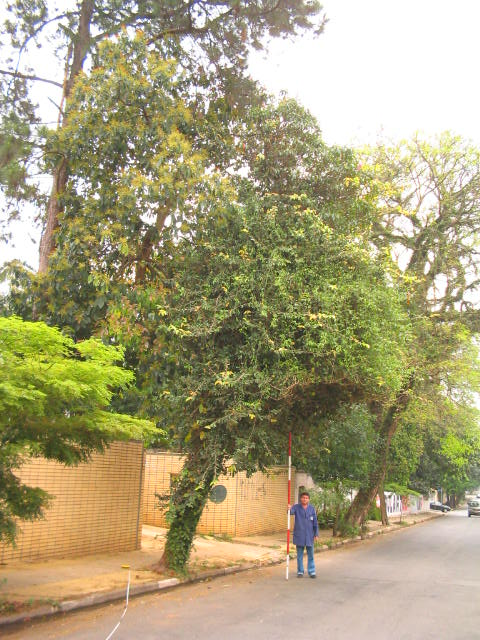crown: (152, 196, 402, 440)
stem: (154, 432, 244, 573), (335, 436, 397, 536)
stick: (275, 430, 302, 582)
tree: (149, 193, 402, 576), (334, 133, 479, 539)
